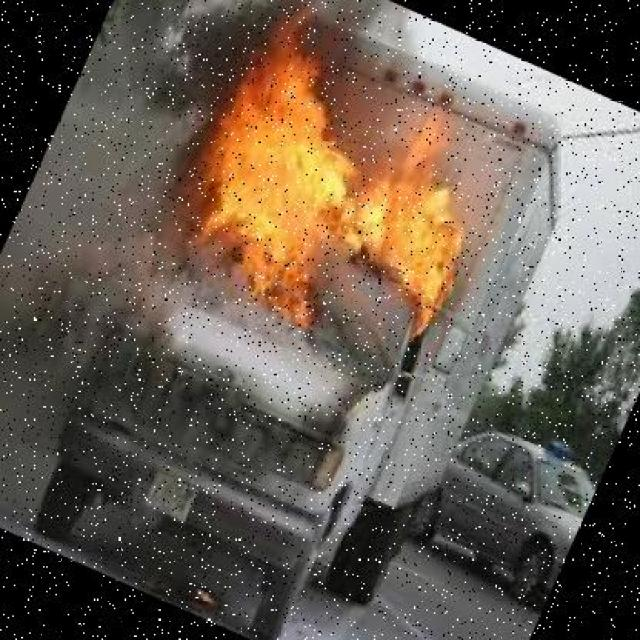fire: (154, 3, 535, 385)
